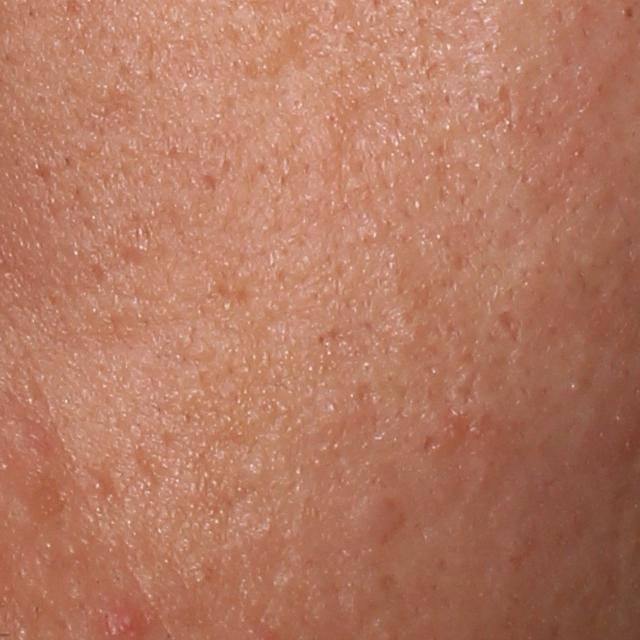atrophic_scar: (494, 81, 518, 131), (453, 366, 483, 404), (494, 310, 518, 343), (421, 433, 444, 458)
